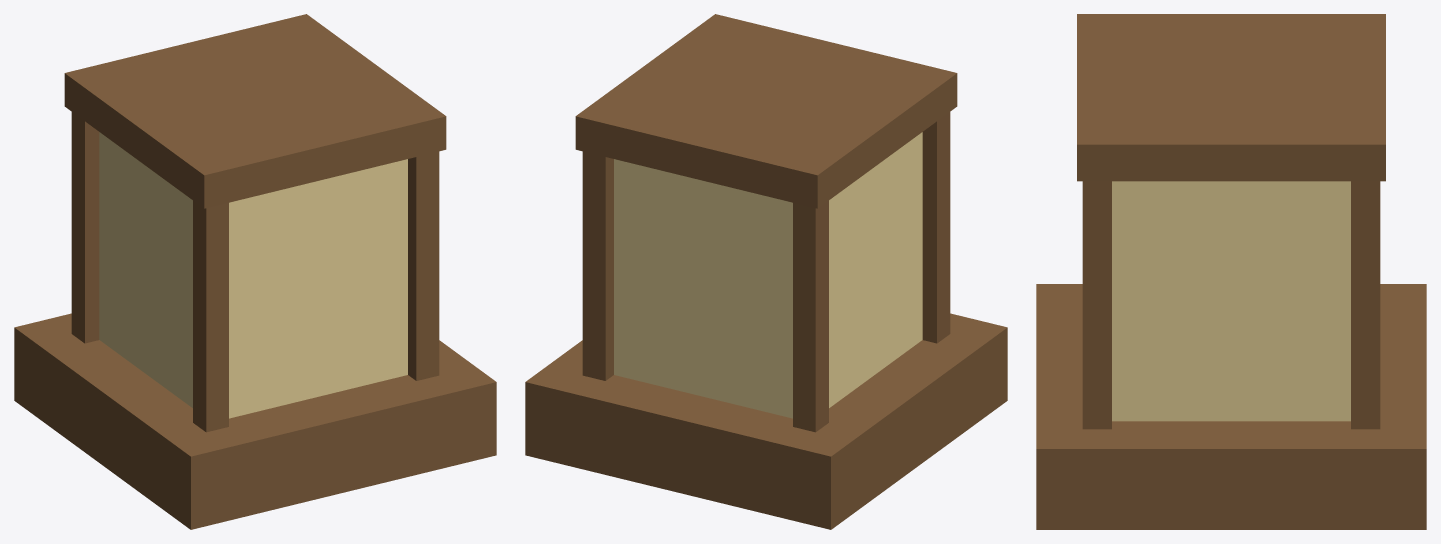
The model's file is toro.glb.
3 renders of one model, left to right at view 1: azimuth 30°, elevation 25°; view 2: azimuth 150°, elevation 25°; view 3: azimuth 270°, elevation 25°, orthographic. The views are drawn at different scales.
Visible parts, largest first — view 1: toro_wood, glow_toro_glow_cream; view 2: toro_wood, glow_toro_glow_cream; view 3: toro_wood, glow_toro_glow_cream.
Part boxes in pixels (bbox=[...]): toro_wood: bbox=[14, 14, 496, 529]; glow_toro_glow_cream: bbox=[99, 132, 407, 418]; toro_wood: bbox=[525, 14, 1007, 529]; glow_toro_glow_cream: bbox=[614, 132, 922, 418]; toro_wood: bbox=[1036, 14, 1426, 529]; glow_toro_glow_cream: bbox=[1112, 181, 1350, 421].
Bounding box in the file's own units: 0.48 × 0.5 × 0.48.
